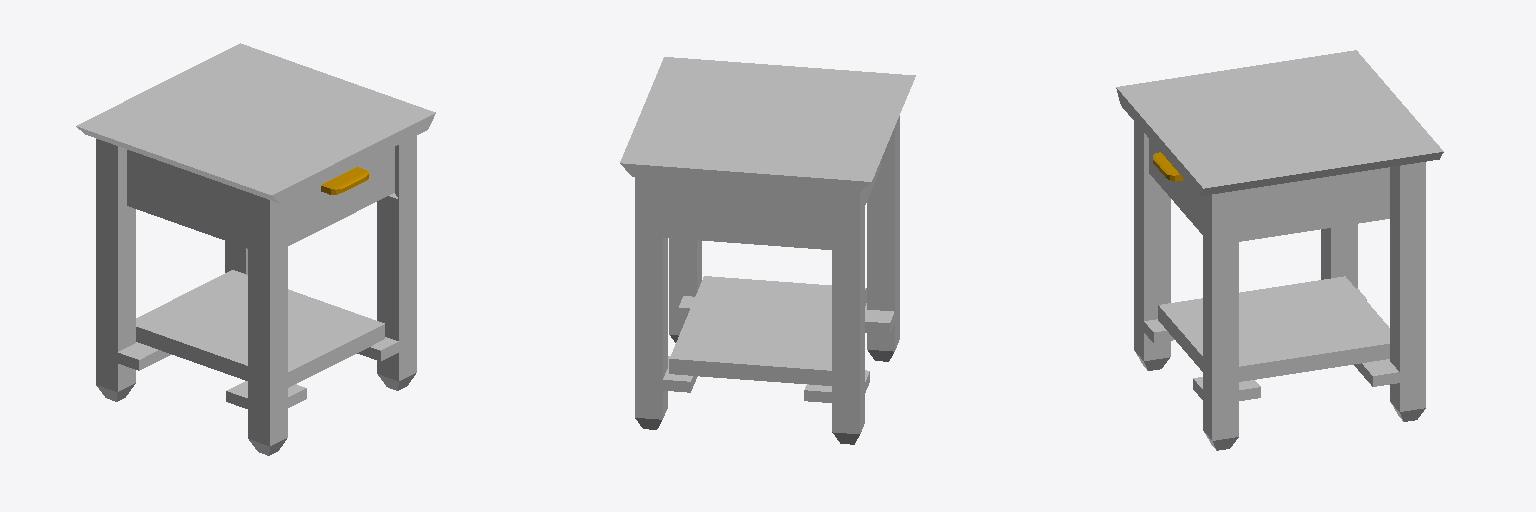
File: table.obj
3 renders of one model, left to right at view 1: azimuth 30°, elevation 25°; view 2: azimuth 150°, elevation 25°; view 3: azimuth 270°, elevation 25°, orthographic.
Visible parts, largest first — view 1: Cube.2; view 2: Cube.2; view 3: Cube.2.
Boxes of the visible parts, x1=… form: Cube.2: x1=76, y1=43, x2=435, y2=455; Cube.2: x1=620, y1=57, x2=915, y2=444; Cube.2: x1=1116, y1=50, x2=1443, y2=450.
Size of the model in its own units: 57.68 by 53 by 57.68.